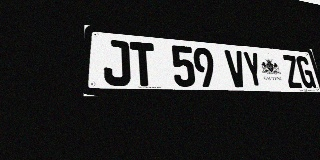5: (171, 45, 197, 87)
9: (192, 47, 217, 87)
G: (295, 56, 316, 88)
J: (103, 39, 131, 86)
T: (130, 41, 157, 86)
V: (224, 50, 248, 88)
Y: (242, 51, 265, 88)
Z: (281, 55, 303, 88)
